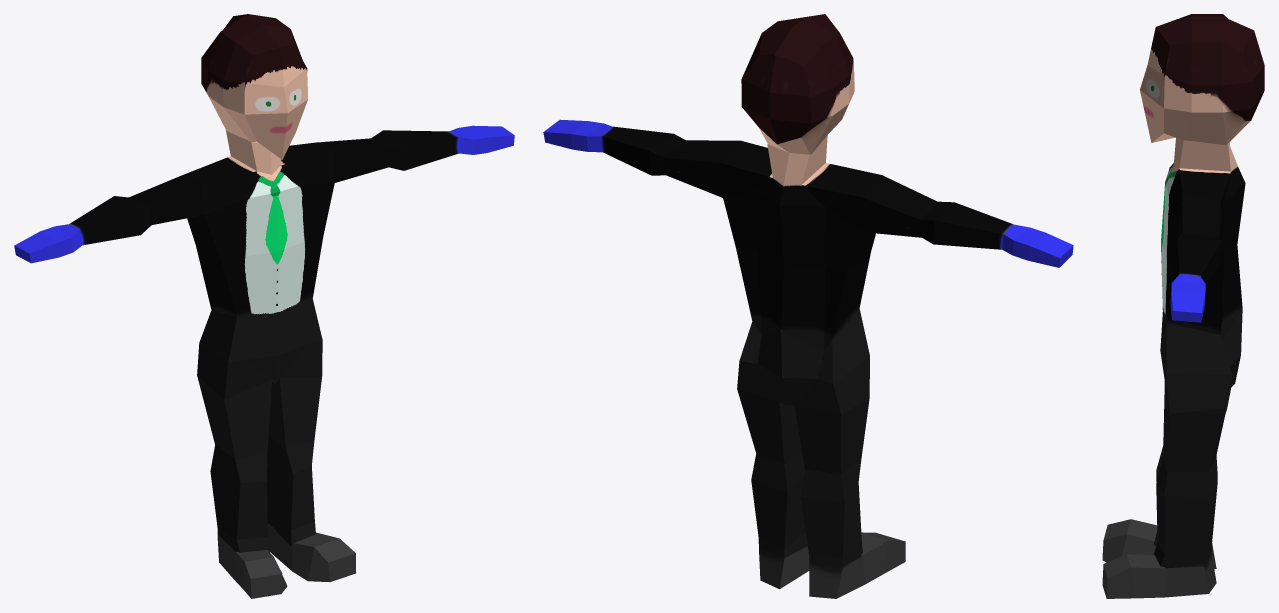
File: prencimodel.fbx
3 views of the same model, side by side, from view 1: azimuth 30°, elevation 25°; view 2: azimuth 150°, elevation 25°; view 3: azimuth 270°, elevation 25° (orthographic). The views are drawn at different scales.
Visible parts, largest first — view 1: Player; view 2: Player; view 3: Player.
Boxes of the visible parts, x1,y1,x2,y2 form: Player: (14,14,514,598); Player: (543,14,1073,598); Player: (1102,14,1264,598).
Size of the model in its own units: 1255 by 1315 by 345.
Materials: 1 (1 with a texture image).
